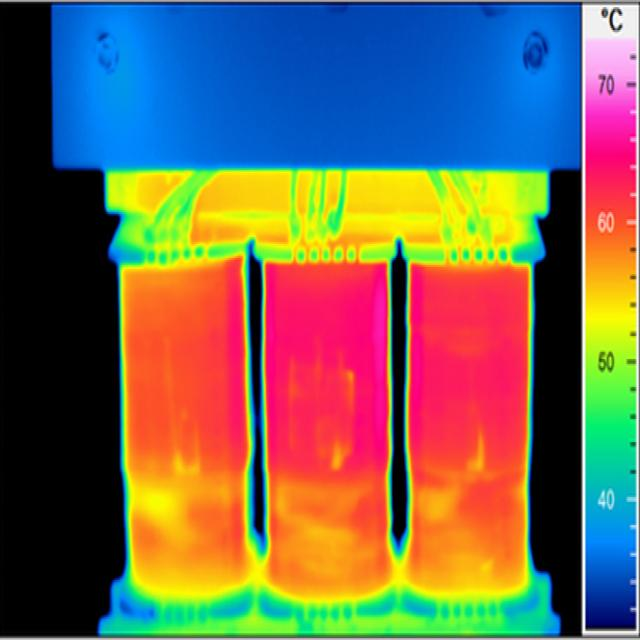Transformer: (52, 9, 578, 631)
